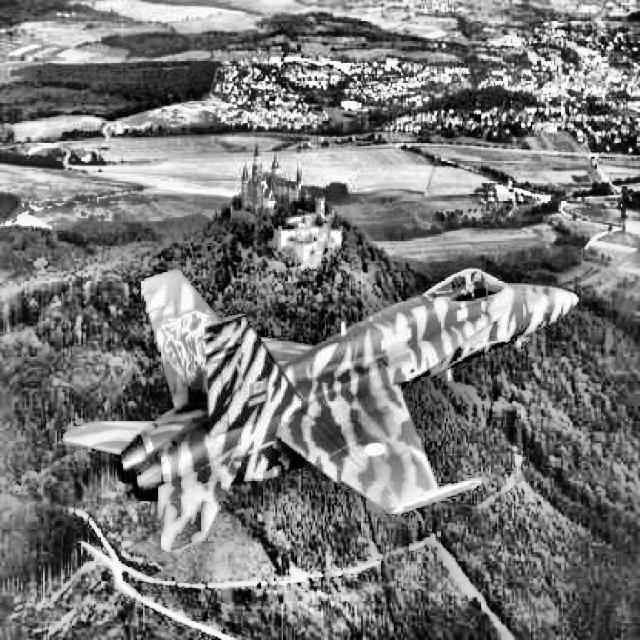F18: (62, 269, 578, 553)
